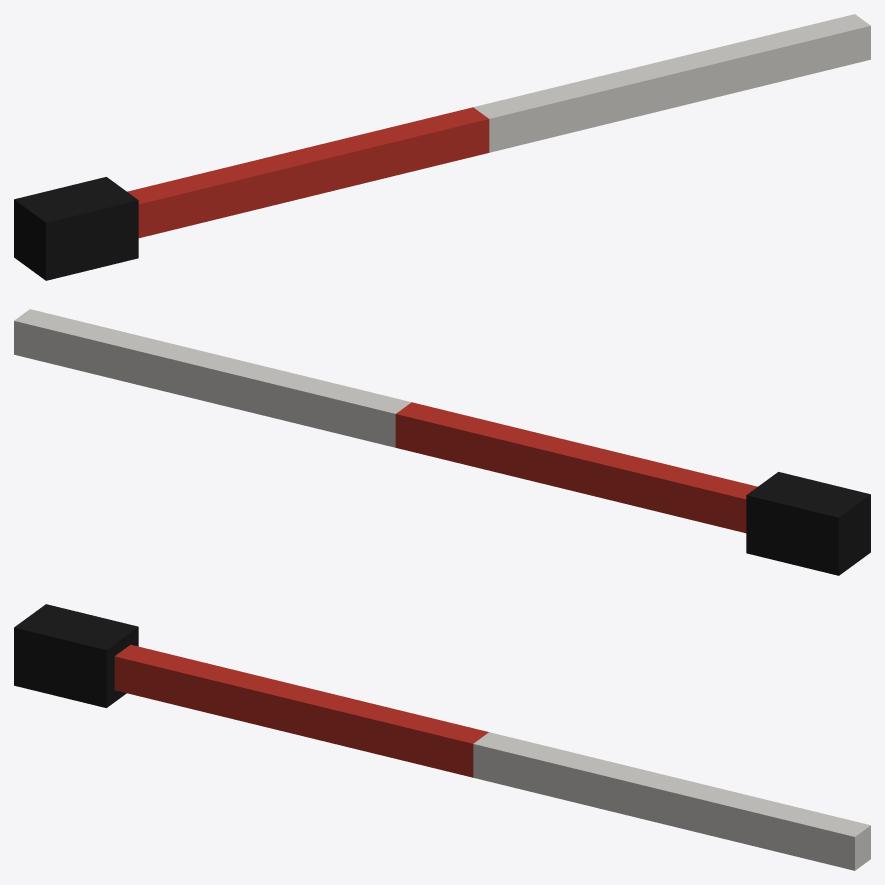
The model's file is ub_barrier_lod1.glb.
3 renders of one model, top to bottom at view 1: azimuth 30°, elevation 25°; view 2: azimuth 150°, elevation 25°; view 3: azimuth 330°, elevation 25°, orthographic.
Visible parts, largest first — view 1: ub_barrier_lod1; view 2: ub_barrier_lod1; view 3: ub_barrier_lod1.
Part boxes in pixels (bbox=[...]): ub_barrier_lod1: bbox=[14, 14, 870, 280]; ub_barrier_lod1: bbox=[14, 309, 870, 575]; ub_barrier_lod1: bbox=[14, 604, 870, 870].
Size of the model in its own units: 3.6 by 0.24 by 0.24.
